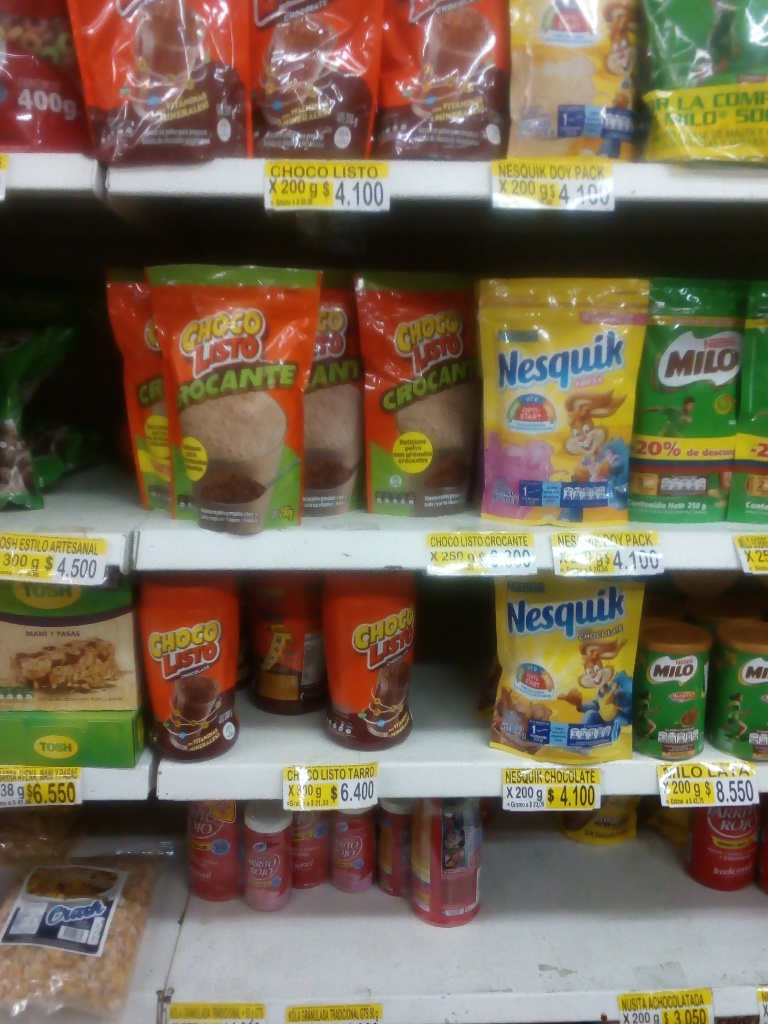COL0170102DYP25000: (156, 263, 317, 530)
COL0170103TRR30000: (137, 578, 242, 752)
COL0170203DYP25000: (633, 276, 744, 522)
COL0170203LAT20000: (641, 627, 711, 760)
COL0170303DYP20000: (498, 570, 638, 766)
COL0170305DYP20000: (479, 281, 638, 526)
